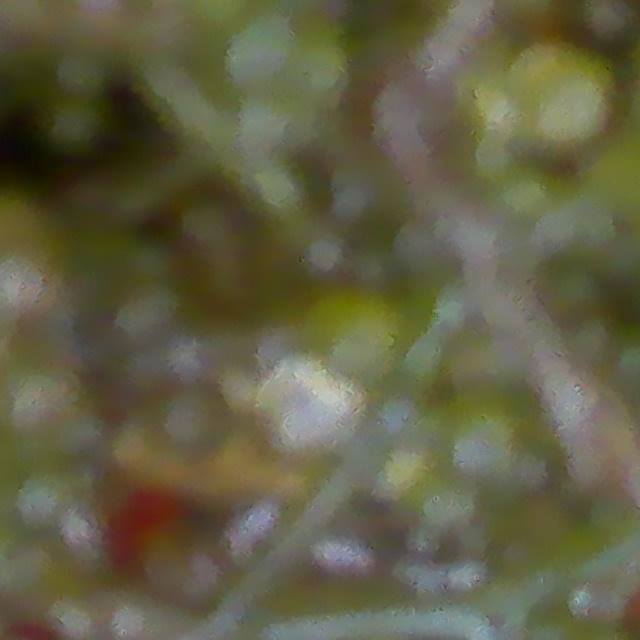SeaGrape: (527, 46, 615, 148), (220, 8, 304, 94), (286, 30, 357, 107), (40, 92, 110, 159), (572, 0, 640, 50)
